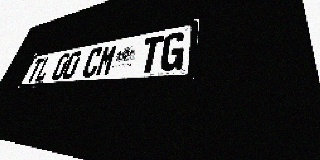0: (60, 50, 83, 80), (50, 53, 71, 80)
C: (80, 46, 104, 78)
G: (158, 31, 187, 72)
L: (34, 56, 54, 82)
M: (94, 44, 119, 77)
T: (137, 35, 164, 73), (25, 58, 45, 82)
